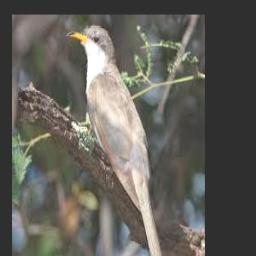Cuckoo: (67, 26, 169, 256)
